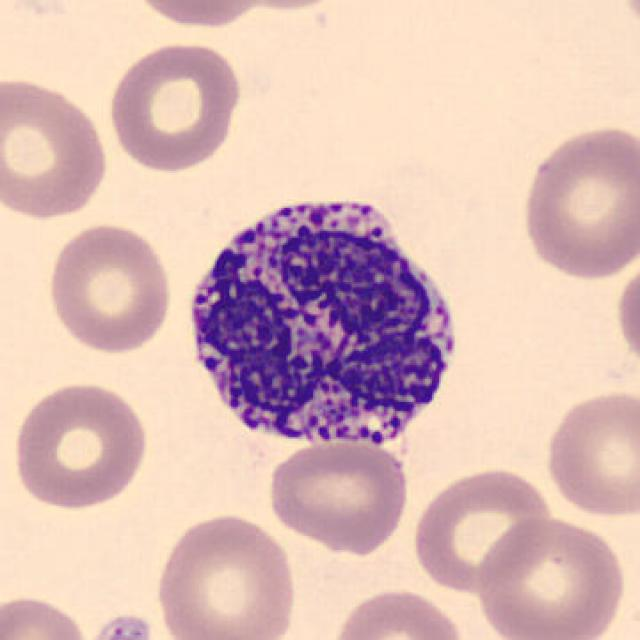Basophil: (167, 173, 477, 471)
Platelets: (89, 610, 156, 640)
RBC: (516, 120, 638, 284), (473, 513, 629, 640), (409, 462, 556, 596), (103, 37, 245, 175), (9, 377, 153, 513), (151, 509, 300, 640), (43, 219, 176, 356), (263, 436, 413, 556), (0, 72, 112, 222), (540, 384, 640, 520), (327, 585, 468, 640), (124, 0, 272, 32), (0, 590, 94, 640), (612, 250, 638, 381), (208, 0, 356, 14), (608, 0, 640, 44)
